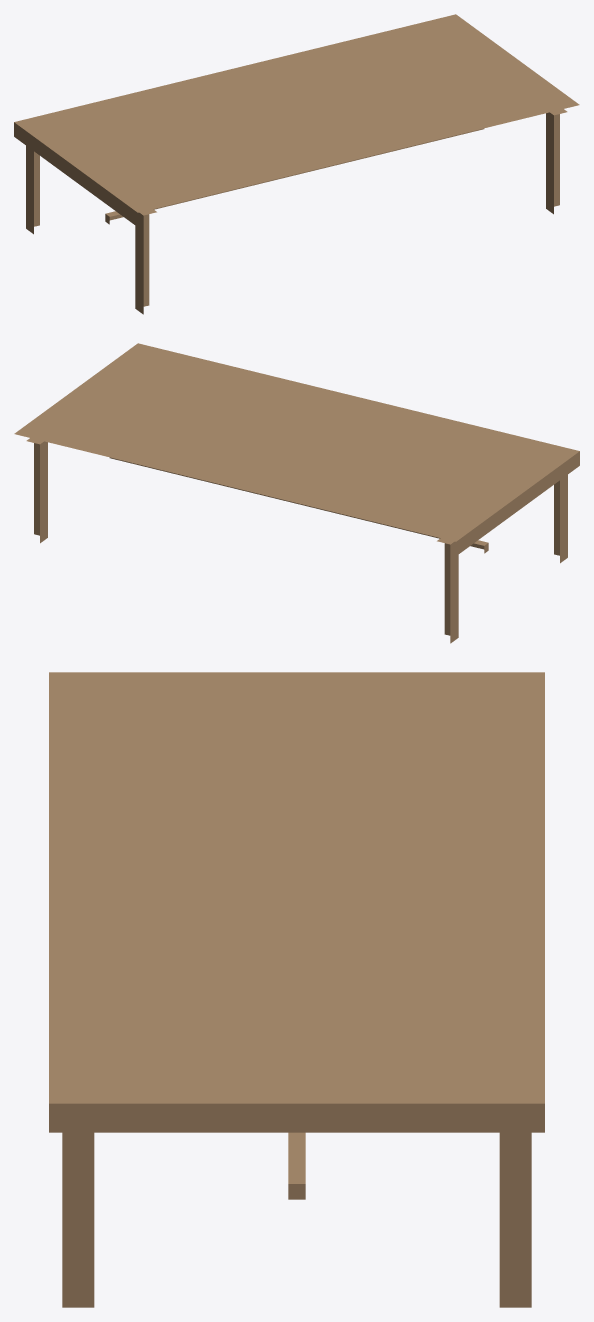
Rendered from mesa.glb.
The picture shows the model from 3 angles, top to bottom: view 1: azimuth 30°, elevation 25°; view 2: azimuth 150°, elevation 25°; view 3: azimuth 270°, elevation 25°; orthographic projection. The views are drawn at different scales.
Visible parts, largest first — view 1: tablero, pata (×3), refuerzo; view 2: tablero, pata (×3), refuerzo; view 3: tablero, pata (×2), refuerzo.
Part boxes in pixels (x1,y1,x2,y2): tablero: (14,14,579,226); pata (×3): (26,109,567,314); refuerzo: (105,128,484,224); tablero: (14,343,579,555); pata (×3): (26,438,567,643); refuerzo: (109,457,488,553); tablero: (49,672,544,1132); pata (×2): (62,1132,531,1307); refuerzo: (288,1132,305,1199).
Size of the model in its own units: 7 by 1.61 by 3.4.
